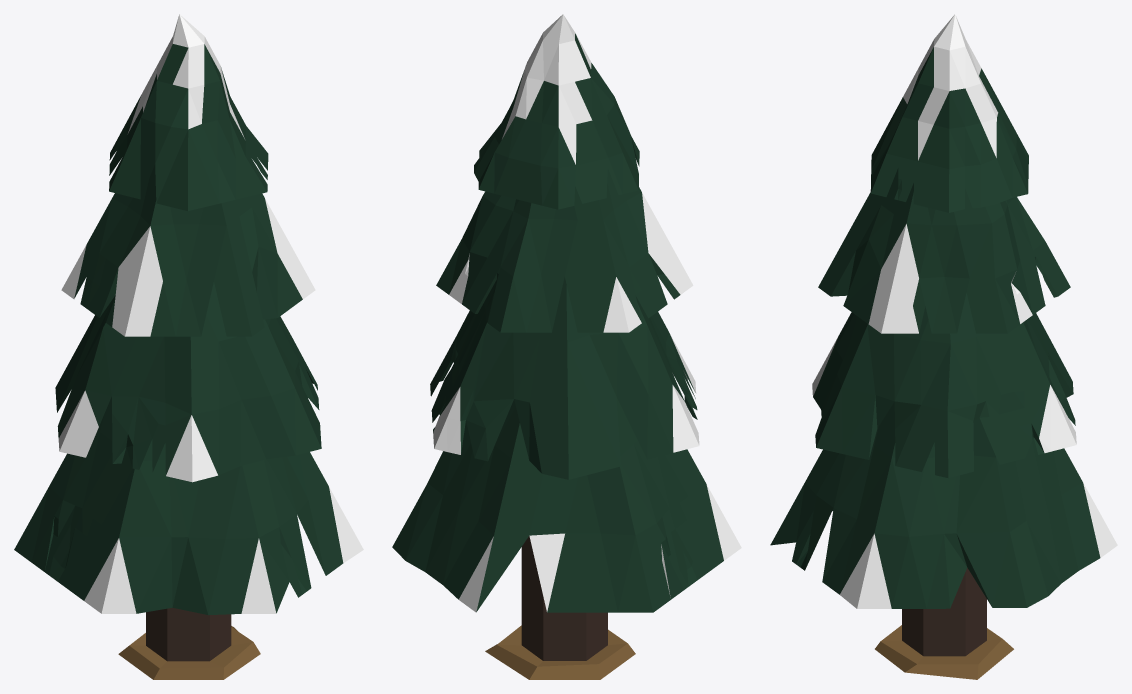
File: winter_tree_1.fbx
3 views of the same model, side by side, from view 1: azimuth 30°, elevation 25°; view 2: azimuth 150°, elevation 25°; view 3: azimuth 270°, elevation 25° (orthographic).
Parts seen in each view (by area): view 1: Cone, Cone.001, Cone.002, Cone.003, Cylinder; view 2: Cone, Cone.001, Cone.002, Cone.003, Cylinder; view 3: Cone, Cone.001, Cone.002, Cone.003, Cylinder.
Boxes of the visible parts, x1=… form: Cone: x1=14, y1=396, x2=363, y2=615; Cone.001: x1=55, y1=282, x2=321, y2=482; Cone.002: x1=61, y1=164, x2=315, y2=336; Cone.003: x1=109, y1=14, x2=268, y2=210; Cylinder: x1=118, y1=608, x2=260, y2=679; Cone: x1=392, y1=397, x2=741, y2=612; Cone.001: x1=430, y1=277, x2=699, y2=479; Cone.002: x1=436, y1=169, x2=693, y2=332; Cone.003: x1=474, y1=14, x2=639, y2=209; Cylinder: x1=485, y1=536, x2=635, y2=679; Cone: x1=770, y1=402, x2=1117, y2=608; Cone.001: x1=812, y1=293, x2=1076, y2=478; Cone.002: x1=818, y1=168, x2=1070, y2=333; Cone.003: x1=870, y1=14, x2=1028, y2=212; Cylinder: x1=875, y1=568, x2=1013, y2=679.
Bounding box in the file's own units: 49.88 × 116 × 57.5.
